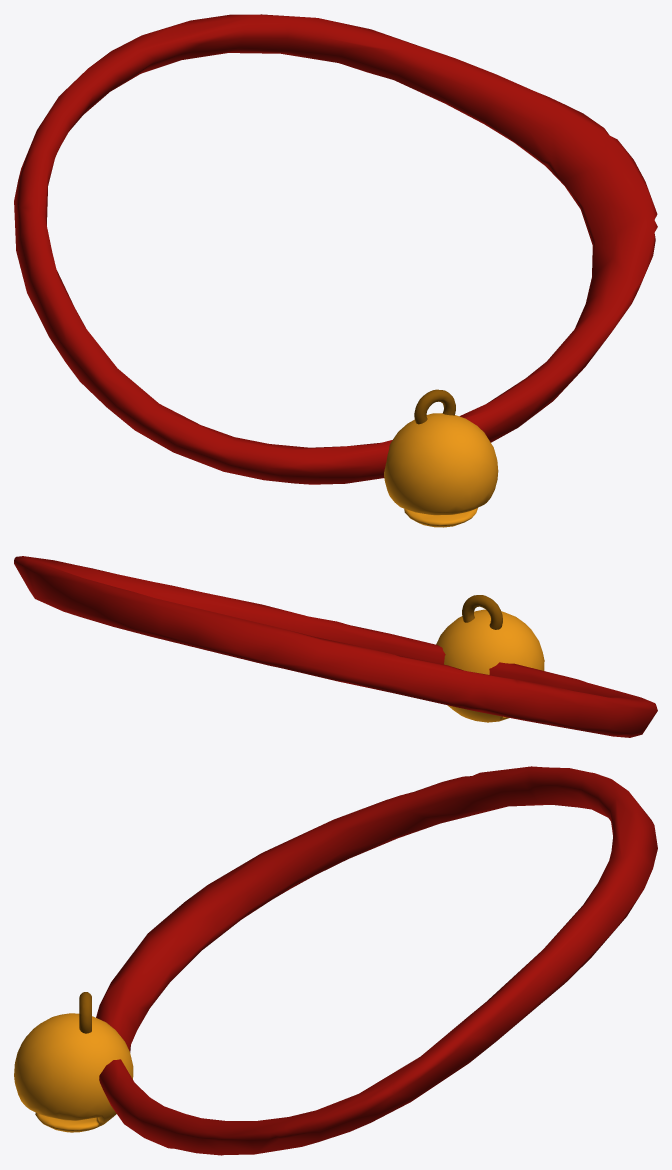
File: chuong.glb
3 views of the same model, one above another, from view 1: azimuth 30°, elevation 25°; view 2: azimuth 150°, elevation 25°; view 3: azimuth 270°, elevation 25° (orthographic). The views are drawn at different scales.
Visible parts, largest first — view 1: Vong_Co, Chuong, Moc; view 2: Vong_Co, Chuong, Moc; view 3: Vong_Co, Chuong.
Boxes of the visible parts, left/top/right/bottom form: Vong_Co: left=14, top=14, right=657, bottom=484; Chuong: left=384, top=413, right=498, bottom=527; Moc: left=414, top=389, right=455, bottom=424; Vong_Co: left=14, top=556, right=657, bottom=737; Chuong: left=436, top=609, right=544, bottom=722; Moc: left=462, top=595, right=502, bottom=629; Vong_Co: left=96, top=766, right=657, bottom=1155; Chuong: left=14, top=1013, right=133, bottom=1132.
Size of the model in its own units: 0.2376 by 0.1147 by 0.2155.
